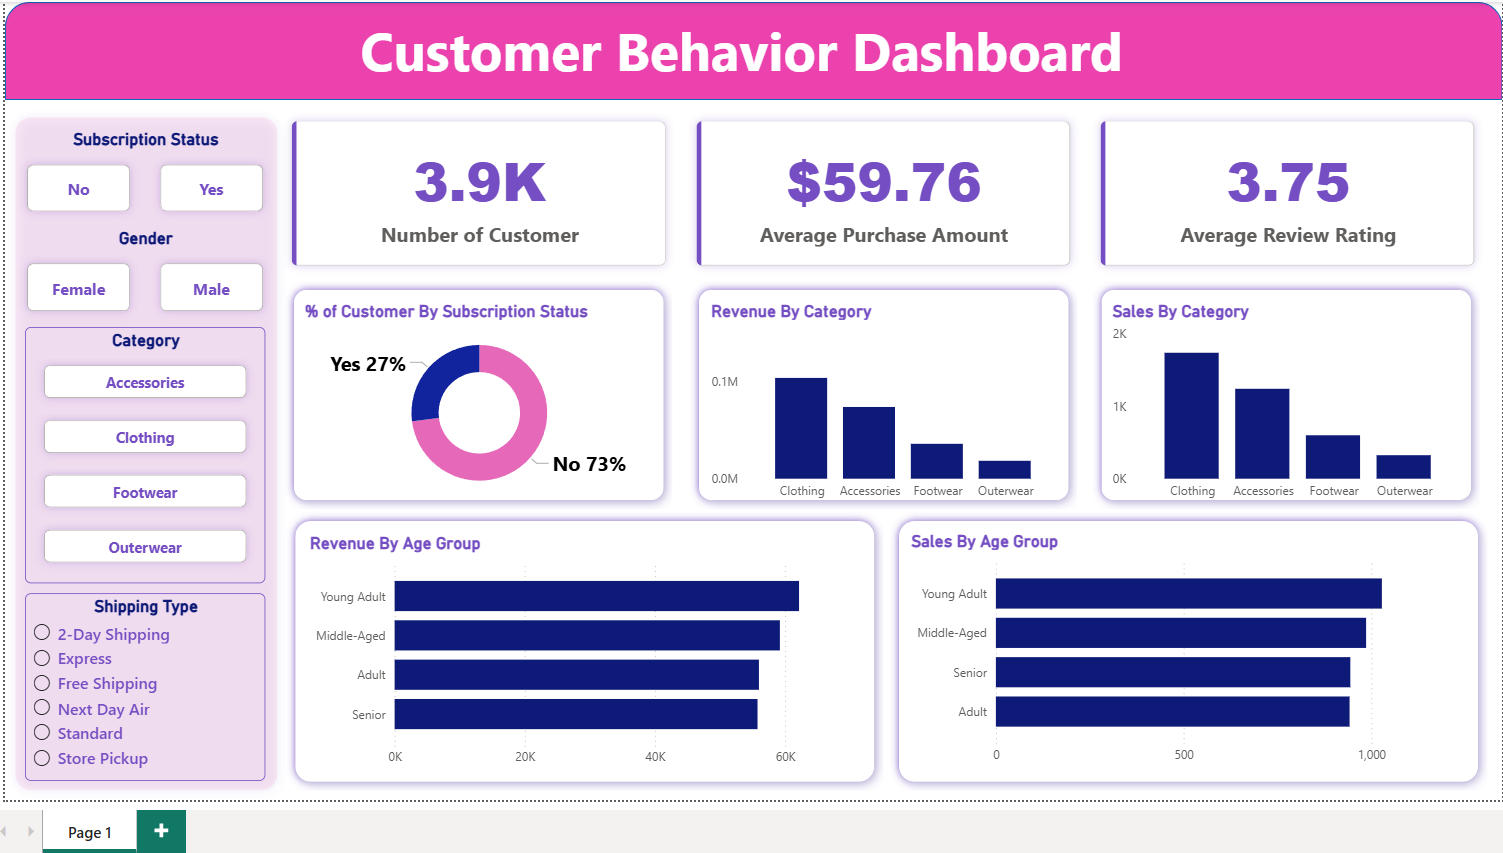

Layout of this report page (visuals, bound fields, positions):
{"tool":"powerbi","page":{"name":"Page 1","canvas":[1500,800],"ordinal":0},"visuals":[{"type":"cardVisual","fields":{"Data":["public customer.Number of Customer","public customer.Average Purchase Ammount","public customer.Average Review Rating"]},"box":[258.9,91.3,1241.4,201.7],"z":0},{"type":"shape","box":[0,0,1500.3,98.1],"z":1000},{"type":"textbox","box":[222.1,6.8,1032.9,83.1],"z":2000},{"type":"shape","box":[280.7,279.7,388.4,228.9],"z":3000},{"type":"donutChart","title":"% of Customer By Subscription Status","fields":{"Category":["public customer.subscription_status"],"Y":["CountNonNull(public customer.customer_id)"]},"box":[295.7,298.8,359.7,205.8],"z":4000},{"type":"shape","box":[1090.1,279.7,388.4,228.9],"z":5000},{"type":"shape","box":[686.8,279.7,388.4,228.9],"z":6000},{"type":"clusteredColumnChart","title":"Revenue By Category","fields":{"Y":["Sum(public customer.purchase_amount)"],"Category":["public customer.category"]},"box":[703.1,298.8,359.7,208.5],"z":7000},{"type":"clusteredColumnChart","title":"Sales By Category","fields":{"Y":["CountNonNull(public customer.customer_id)"],"Category":["public customer.category"]},"box":[1105.1,298.8,359.7,208.5],"z":8000},{"type":"shape","box":[1.4,106.3,280.7,692.2],"z":9000},{"type":"advancedSlicerVisual","title":"Subscription Status","fields":{"Values":["public customer.subscription_status"]},"box":[6.8,128.1,269.8,99],"z":10000},{"type":"advancedSlicerVisual","title":"Gender","fields":{"Values":["public customer.gender"]},"box":[6.8,226.2,269.8,99.5],"z":11000},{"type":"advancedSlicerVisual","title":"Category","fields":{"Values":["public customer.category"]},"box":[20.4,325.7,241,257],"z":12000},{"type":"listSlicer","title":"Shipping Type","fields":{"Values":["public customer.shipping_type"]},"box":[20.4,592.8,241.2,188],"z":13000},{"type":"shape","box":[282.1,511,598.2,279.3],"z":15000},{"type":"clusteredBarChart","title":"Revenue By Age Group","fields":{"Category":["public customer.age_group"],"Y":["Sum(public customer.purchase_amount)"]},"box":[301.1,532.8,561.4,242.6],"z":16000},{"type":"shape","box":[887.1,511,598.2,279.3],"z":16001},{"type":"clusteredBarChart","title":"Sales By Age Group","fields":{"Category":["public customer.age_group"],"Y":["CountNonNull(public customer.customer_id)"]},"box":[903.4,530.1,561.4,242.6],"z":16002}]}

Visuals, with their boxes on the page's 1500x800 design canvas (x1, y1, x2, y2). These are canvas units, not pixel positions in the 1503x853 screenshot, which may show the page scaled, cropped or inside an application window:
cardVisual - public customer.Number of Customer x public customer.Average Purchase Ammount: crop(259, 91, 1500, 293)
shape: crop(0, 0, 1500, 98)
textbox: crop(222, 7, 1255, 90)
shape: crop(281, 280, 669, 509)
"% of Customer By Subscription Status" donutChart: crop(296, 299, 655, 505)
shape: crop(1090, 280, 1478, 509)
shape: crop(687, 280, 1075, 509)
"Revenue By Category" clusteredColumnChart: crop(703, 299, 1063, 507)
"Sales By Category" clusteredColumnChart: crop(1105, 299, 1465, 507)
shape: crop(1, 106, 282, 798)
"Subscription Status" advancedSlicerVisual: crop(7, 128, 277, 227)
"Gender" advancedSlicerVisual: crop(7, 226, 277, 326)
"Category" advancedSlicerVisual: crop(20, 326, 261, 583)
"Shipping Type" listSlicer: crop(20, 593, 262, 781)
shape: crop(282, 511, 880, 790)
"Revenue By Age Group" clusteredBarChart: crop(301, 533, 862, 775)
shape: crop(887, 511, 1485, 790)
"Sales By Age Group" clusteredBarChart: crop(903, 530, 1465, 773)
